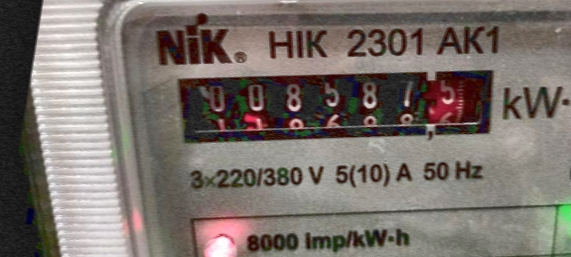0: (239, 76, 270, 114), (200, 78, 231, 114)
5: (316, 75, 344, 109), (433, 71, 459, 105)
6: (434, 106, 455, 126)
7: (392, 74, 419, 111)
8: (278, 78, 307, 113), (354, 75, 382, 111)
screen: (158, 19, 520, 193)
